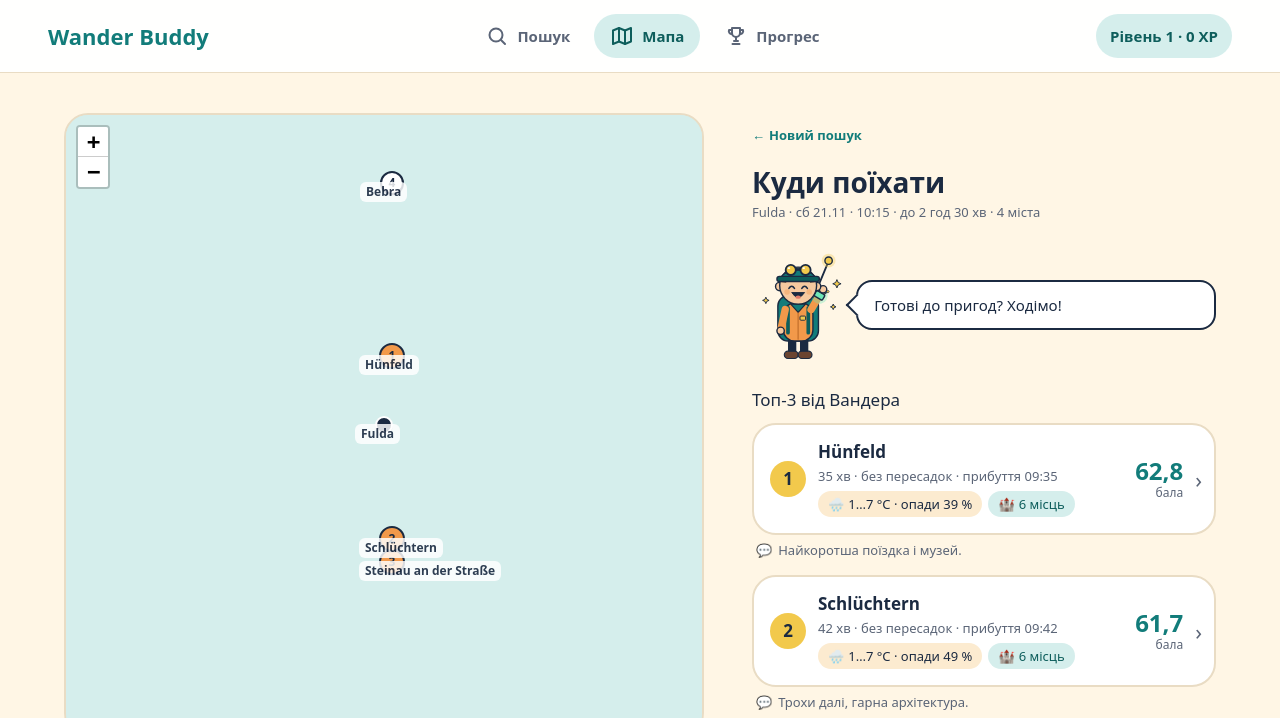
it: back to the search › restores the town, the time and the limit of the last results
Expected: the heading "Топ-3 від Вандера" is shown, [752,388,900,411]
What coordinates should you click on to do the following:
click the button "← Новий пошук"
I would click on:
 (807, 135)
Its box is [748,113,866,157].
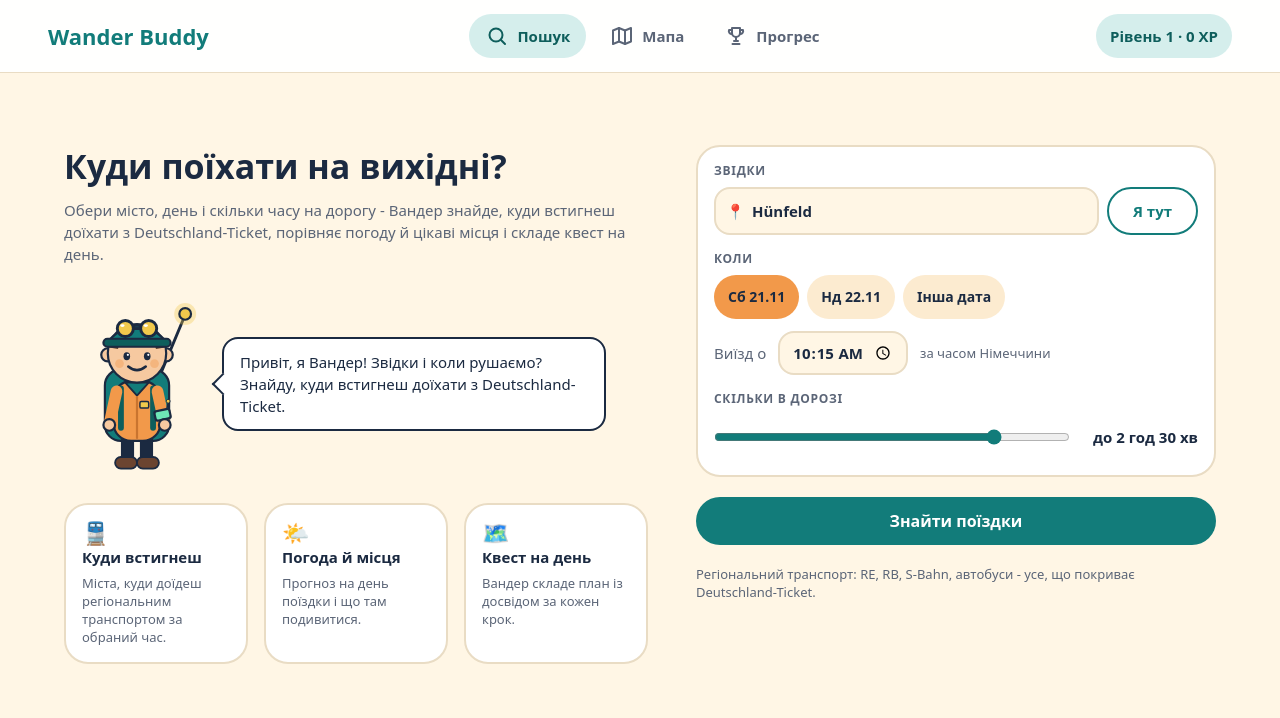
Result: the dropdown holds "Hünfeld" at [714,187,1099,235]
Result: the time field labelled "Виїзд о" holds "10:15" at [778,331,908,375]
Result: the slider holds "150" at [714,415,1070,459]
